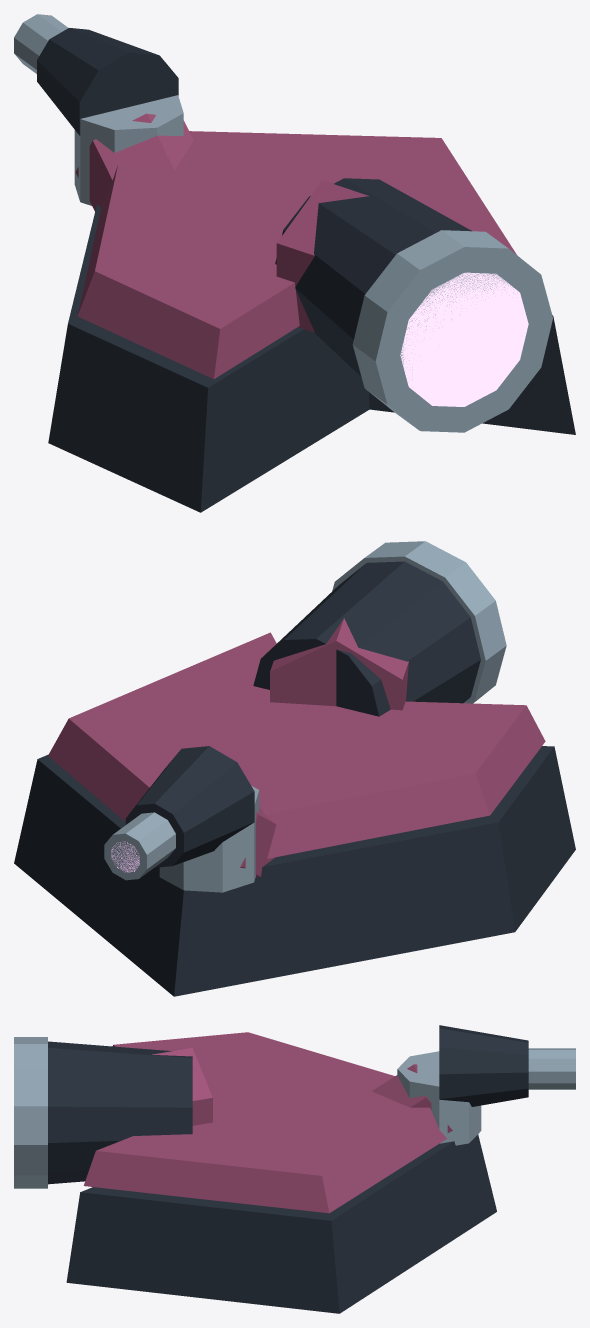
File: c2_miniasteroid.glb
3 renders of one model, top to bottom at view 1: azimuth 30°, elevation 25°; view 2: azimuth 150°, elevation 25°; view 3: azimuth 270°, elevation 25°, orthographic. The views are drawn at different scales.
Parts seen in each view (by area): view 1: miniasteroid / Chassis, miniasteroid / Armor, miniasteroid / Titanium, miniasteroid / Energy; view 2: miniasteroid / Chassis, miniasteroid / Armor, miniasteroid / Titanium; view 3: miniasteroid / Chassis, miniasteroid / Armor, miniasteroid / Titanium.
Boxes of the visible parts, x1,y1,x2,y2 form: miniasteroid / Chassis: (37, 28, 575, 512); miniasteroid / Armor: (75, 113, 516, 379); miniasteroid / Titanium: (14, 14, 552, 432); miniasteroid / Energy: (400, 272, 528, 406); miniasteroid / Chassis: (14, 561, 575, 996); miniasteroid / Armor: (48, 618, 545, 876); miniasteroid / Titanium: (104, 541, 506, 892); miniasteroid / Chassis: (48, 1025, 528, 1313); miniasteroid / Armor: (83, 1032, 452, 1213); miniasteroid / Titanium: (14, 1037, 575, 1188).
Size of the model in its own units: 0.8 by 0.39 by 1.07.
